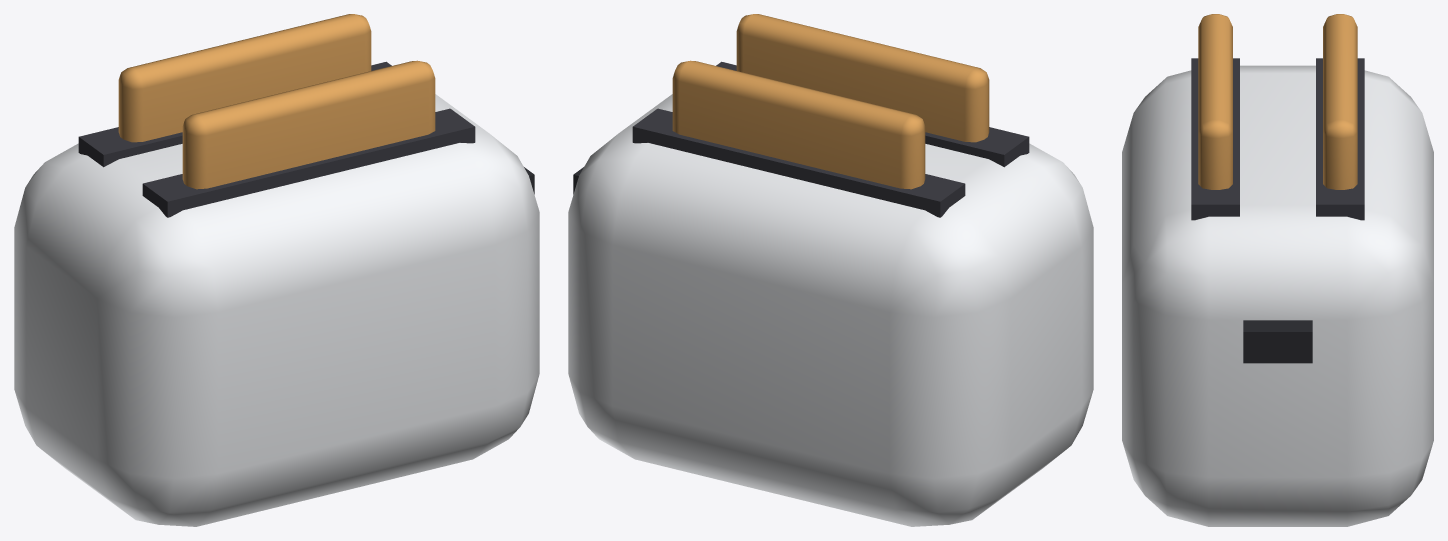
Rendered from Toaster.fbx.
3 views of the same model, side by side, from view 1: azimuth 30°, elevation 25°; view 2: azimuth 150°, elevation 25°; view 3: azimuth 270°, elevation 25° (orthographic). The views are drawn at different scales.
Parts seen in each view (by area): view 1: Toaster; view 2: Toaster; view 3: Toaster.
Boxes of the visible parts, <box> form: Toaster: <box>14,14,539,526</box>; Toaster: <box>568,14,1093,526</box>; Toaster: <box>1122,14,1433,526</box>.
Size of the model in its own units: 1.48 by 1.23 by 0.9.
1 material, 1 textured.
